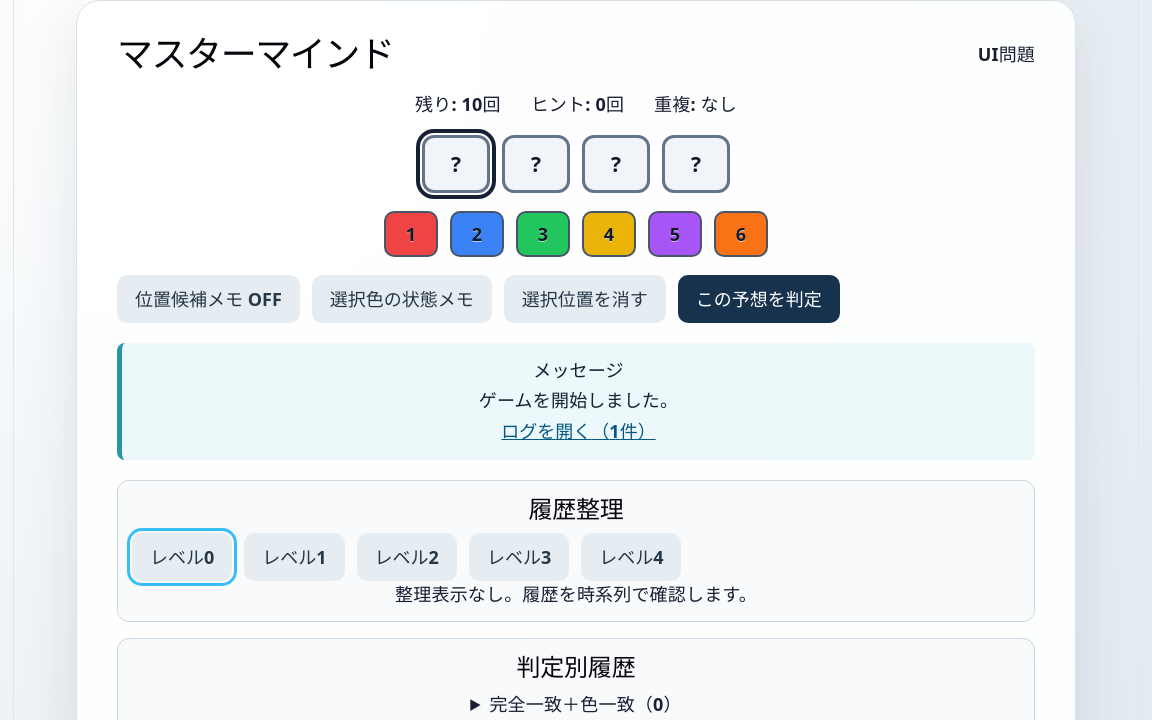
Test: enters and submits a winning guess
(page scrolled)
Check: the button named "入力位置 1" is shown, box x1=422 y1=135 x2=490 y2=193
Click the button named "数字 1".
click(411, 234)  # box x1=384 y1=211 x2=438 y2=257
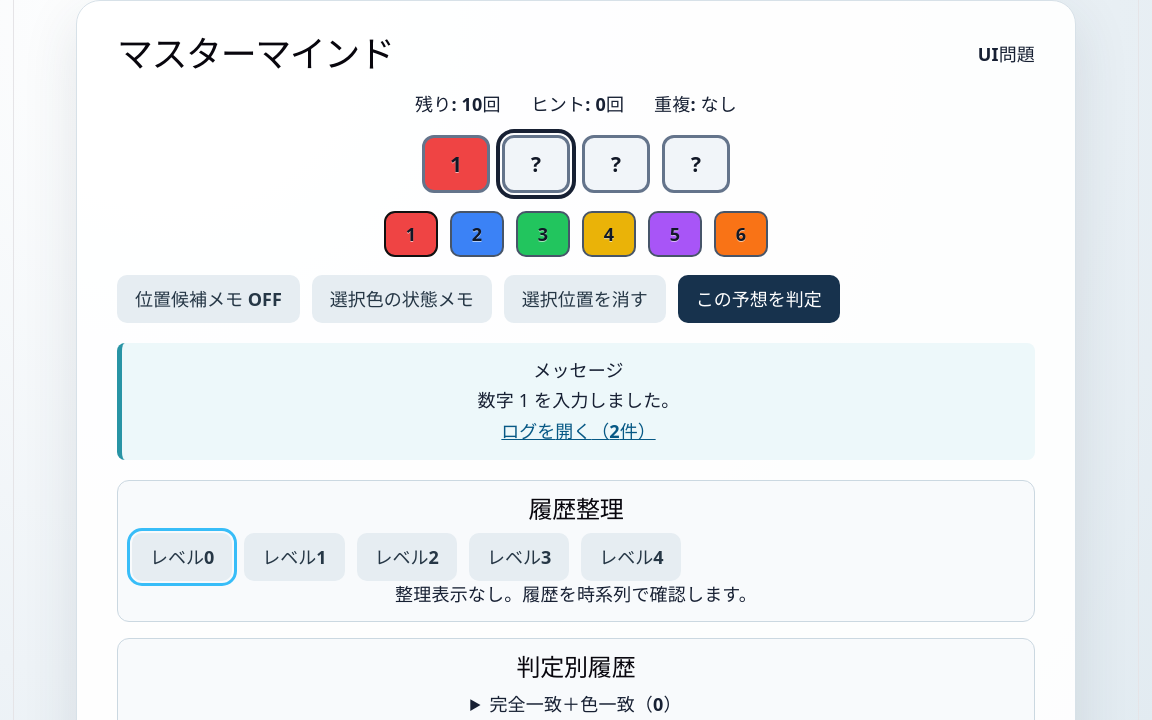
Click the button named "数字 2".
click(477, 234)  # box x1=450 y1=211 x2=504 y2=257
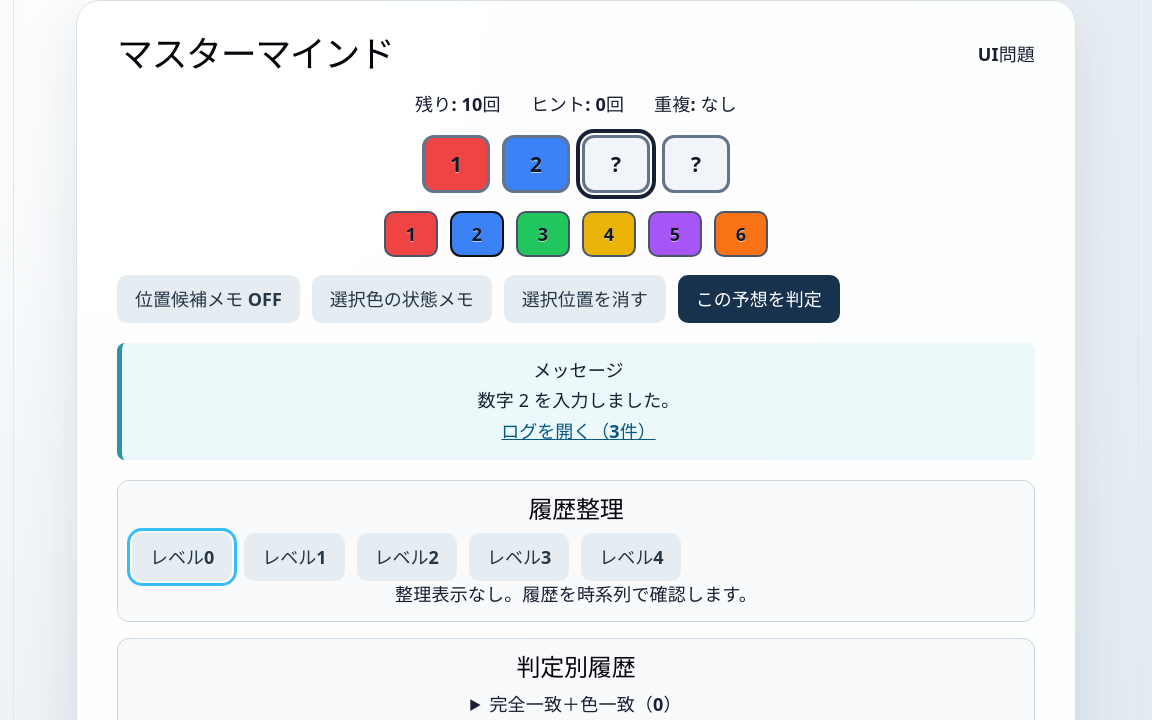
Click the button "3".
click(543, 234)  # box x1=516 y1=211 x2=570 y2=257
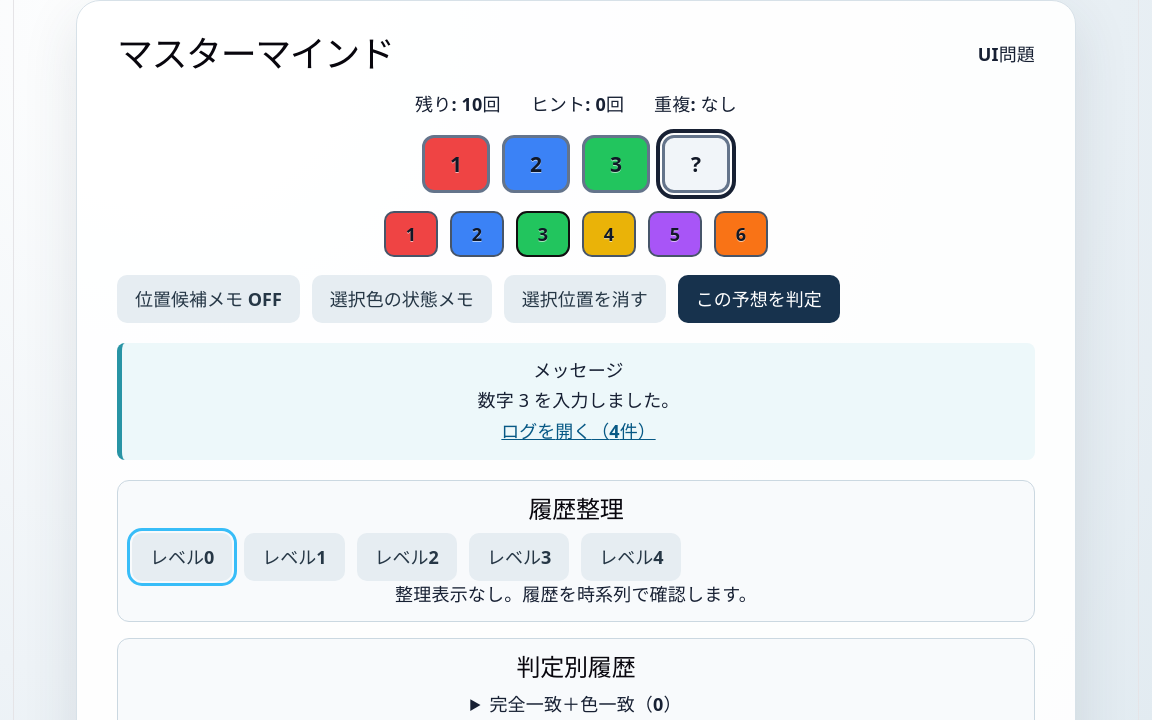
Click the button named "数字 4".
click(609, 234)  # box x1=582 y1=211 x2=636 y2=257
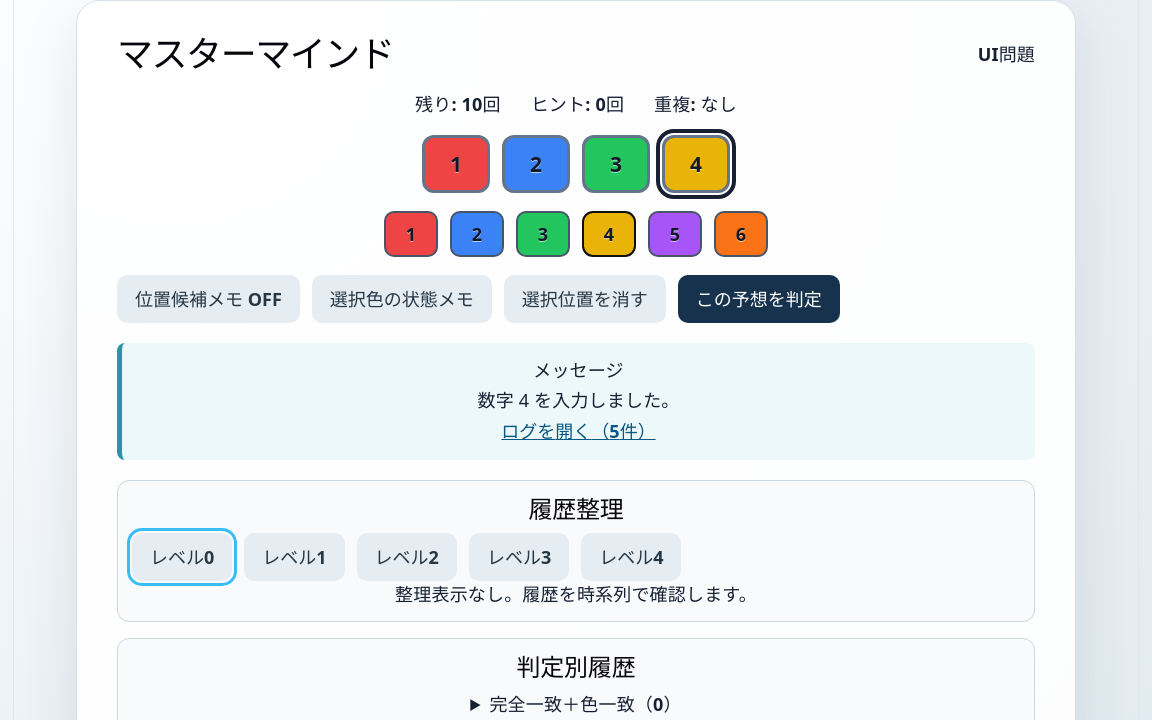
Click the button "この予想を判定".
click(759, 299)  # box x1=678 y1=275 x2=840 y2=323
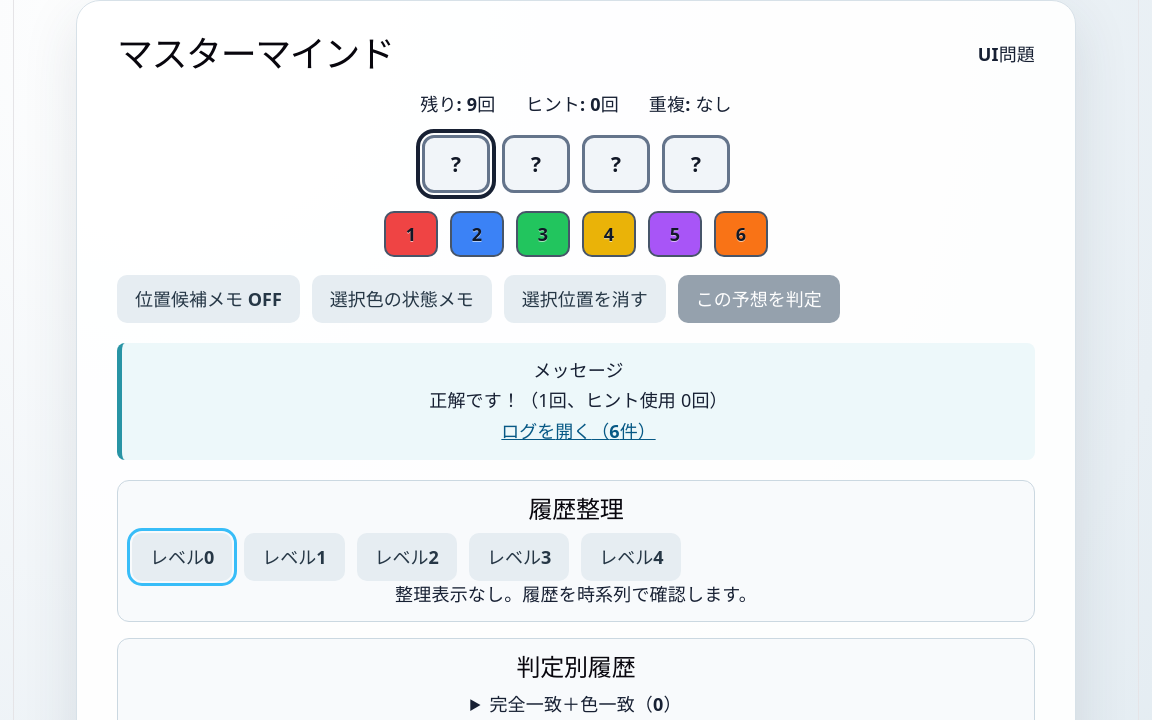
Check: the text "正解です！（1回、ヒント使用 0回）" is shown, box x1=429 y1=388 x2=728 y2=412
